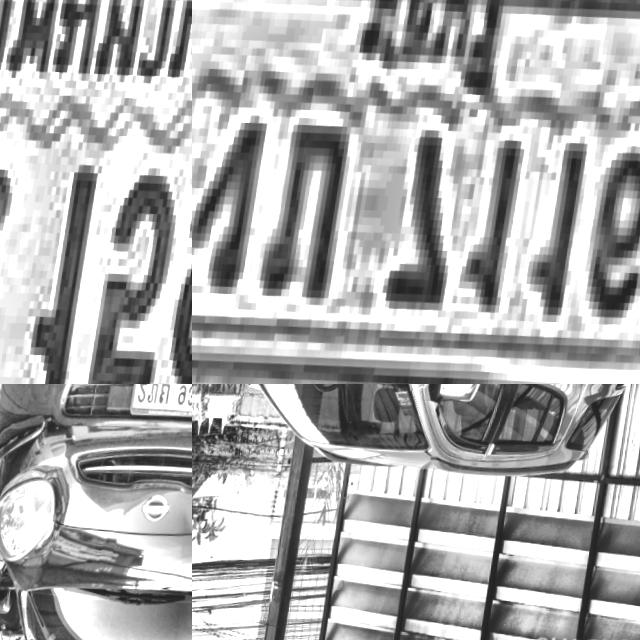license-plate: (192, 0, 640, 384), (0, 0, 192, 384), (126, 384, 192, 428)
